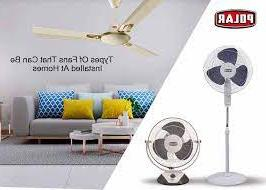chair: (0, 99, 11, 141)
fan: (31, 0, 175, 57), (204, 43, 258, 190), (143, 114, 205, 190)
sofa: (12, 82, 163, 144)
table: (91, 123, 135, 148), (67, 131, 100, 155)
